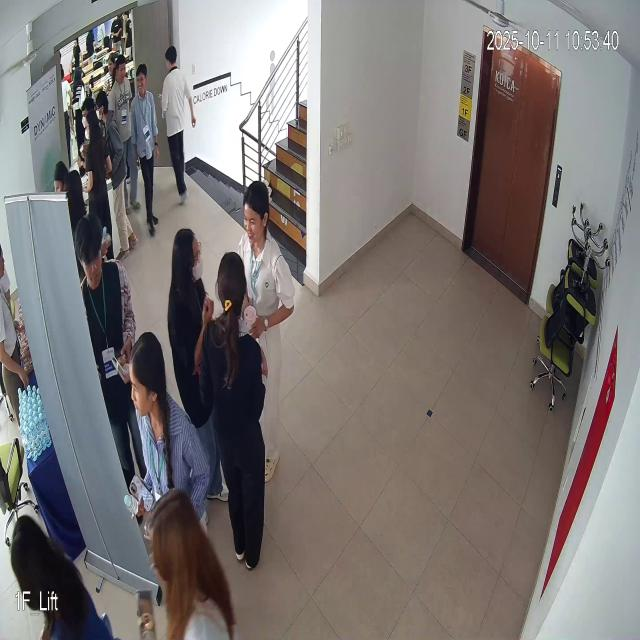face: (70, 207, 110, 302), (239, 180, 276, 250)
